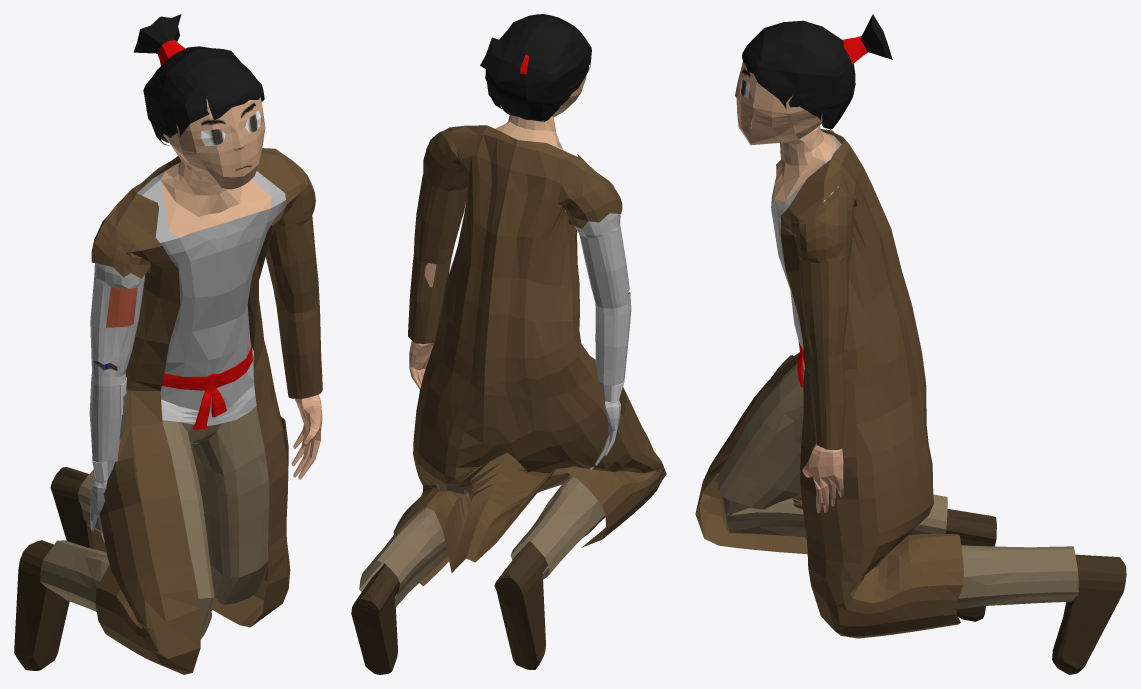
File: One_Die_000007.obj
The picture shows the model from 3 angles, left to right: view 1: azimuth 30°, elevation 25°; view 2: azimuth 150°, elevation 25°; view 3: azimuth 270°, elevation 25°; orthographic projection. The views are drawn at different scales.
Visible parts, largest first — view 1: Hair_Cube.004; view 2: Hair_Cube.004; view 3: Hair_Cube.004.
Part boxes in pixels (x1,y1,x2,y2): Hair_Cube.004: (14,14,322,674); Hair_Cube.004: (351,14,666,674); Hair_Cube.004: (695,14,1126,674).
Size of the model in its own units: 1.16 by 3.08 by 1.88.
